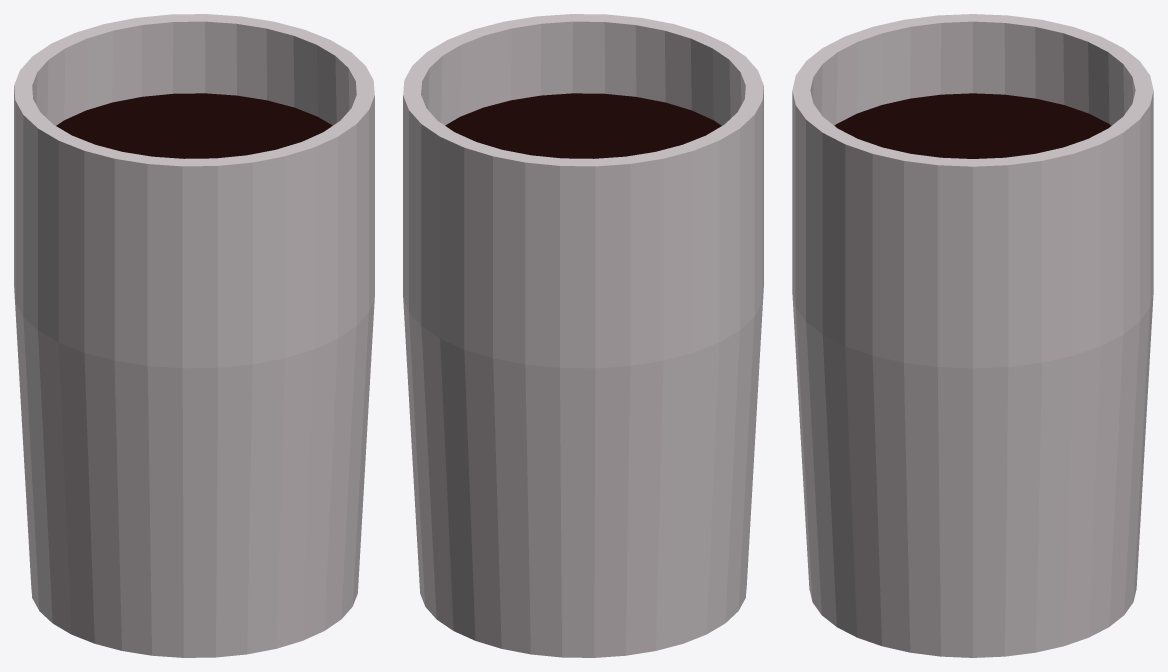
Rendered from Coke.fbx.
3 renders of one model, left to right at view 1: azimuth 30°, elevation 25°; view 2: azimuth 150°, elevation 25°; view 3: azimuth 270°, elevation 25°, orthographic.
Visible parts, largest first — view 1: Coke; view 2: Coke; view 3: Coke.
Part boxes in pixels (x1,y1,x2,y2): Coke: [14, 14, 374, 657]; Coke: [403, 14, 763, 657]; Coke: [792, 14, 1153, 657].
Bounding box in the file's own units: 221 × 221 × 336.
